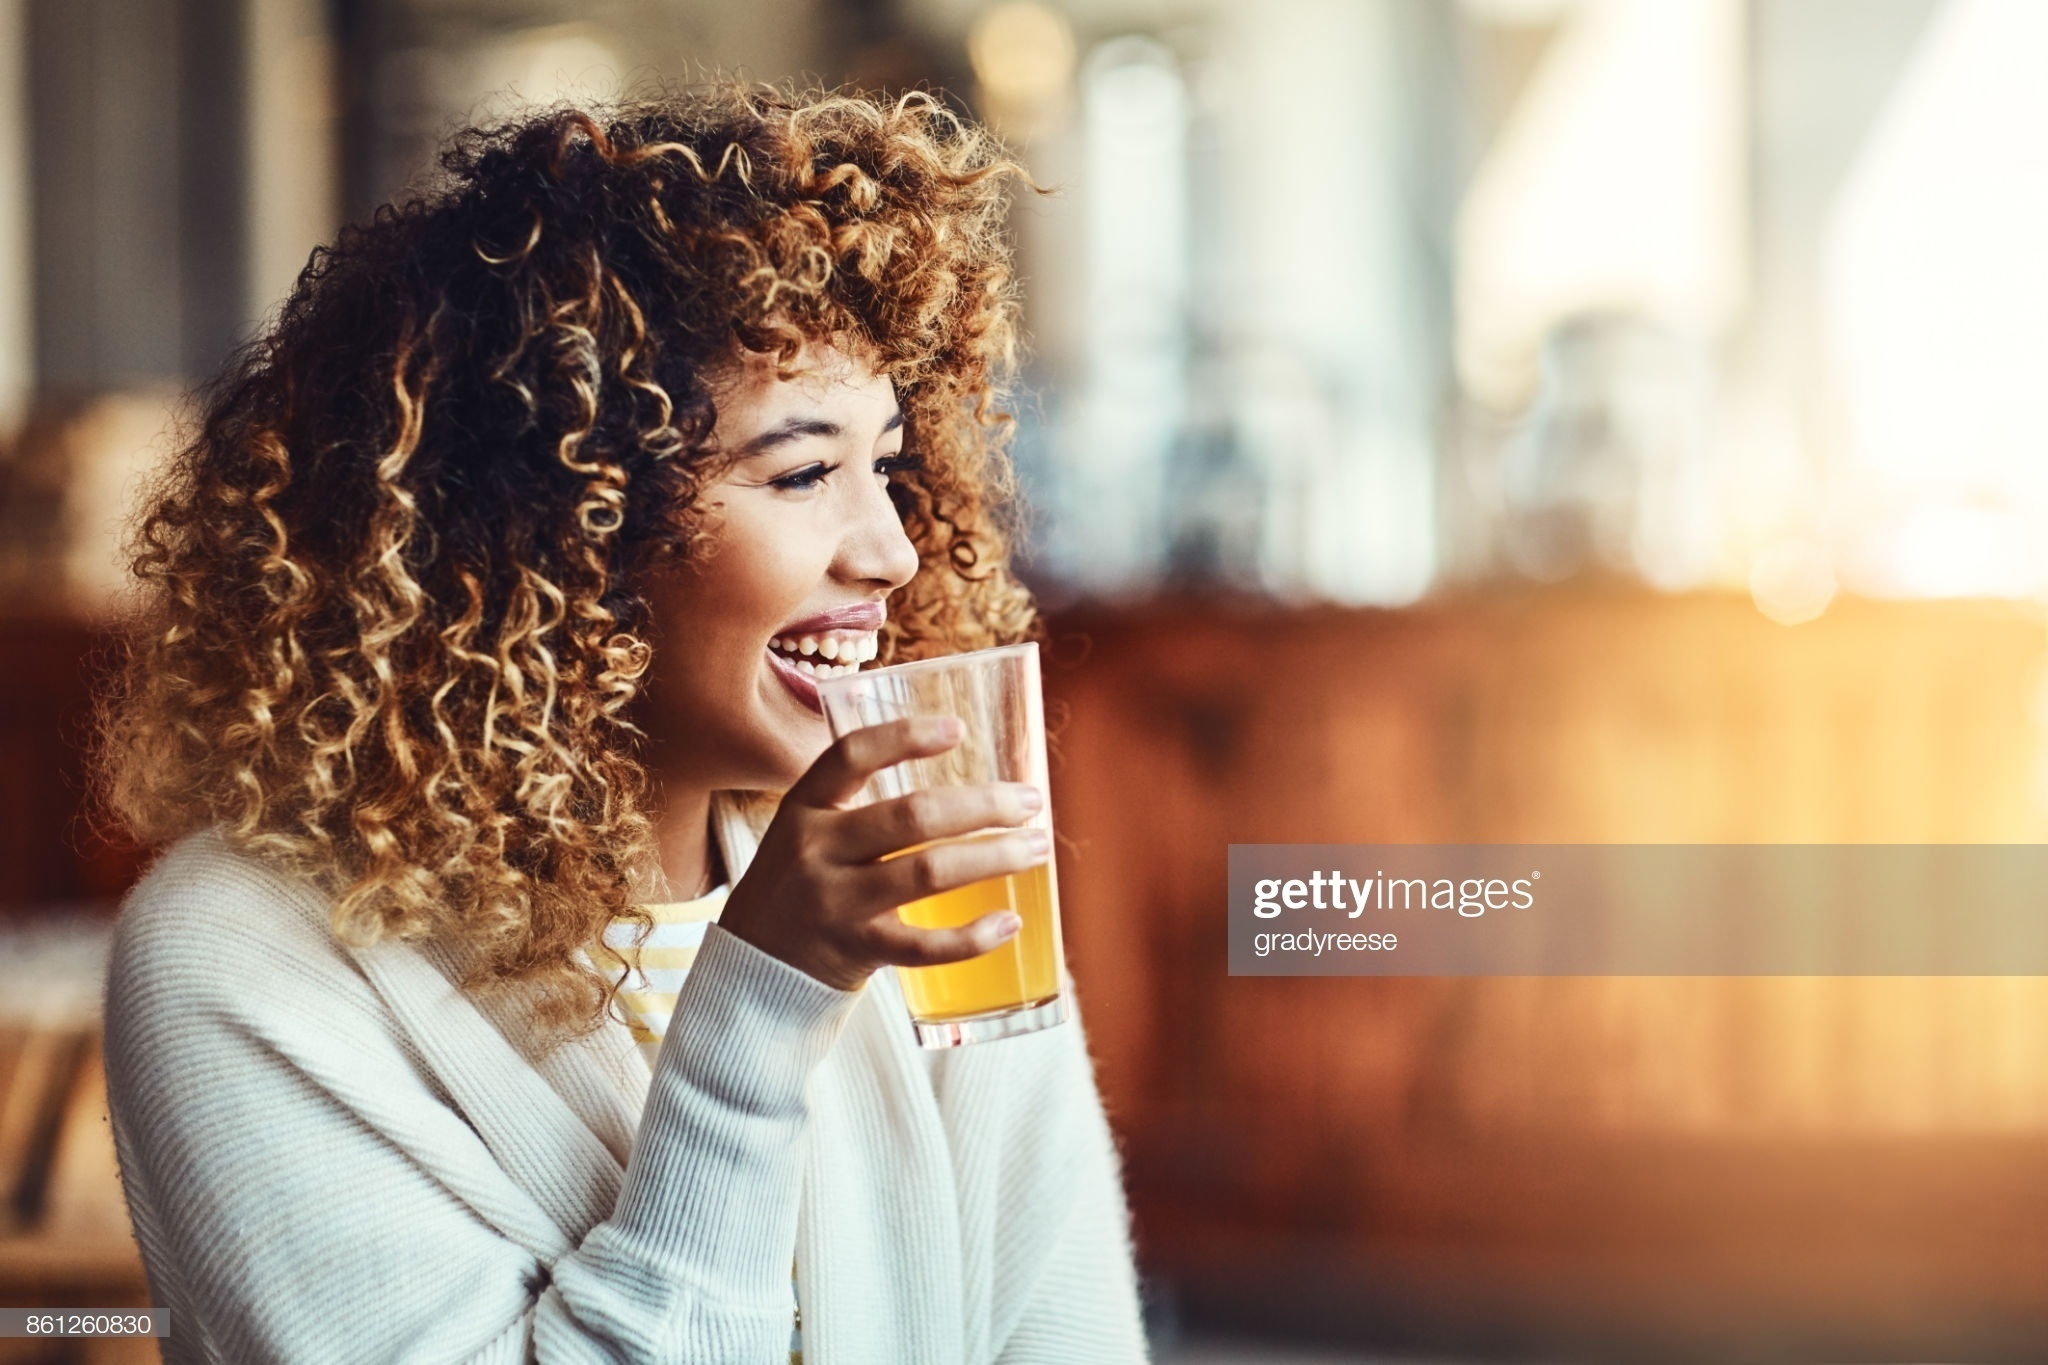whiskey: (825, 631, 1064, 1088)
